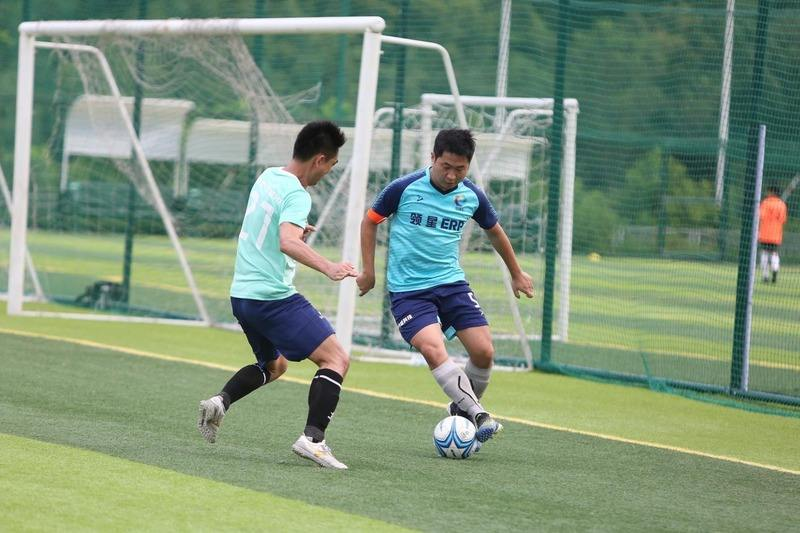football: (434, 416, 480, 461)
